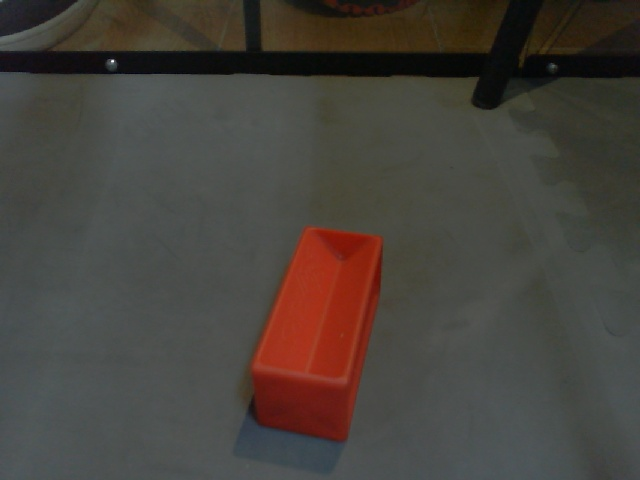RedSample: (247, 221, 387, 447)
